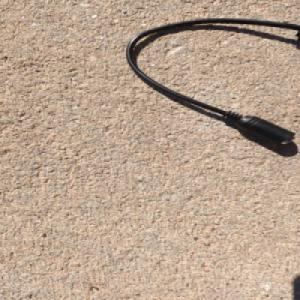Wire: (125, 15, 300, 144)
